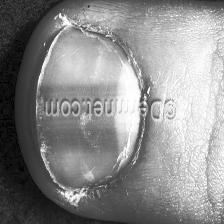Toxin: (55, 180, 101, 209), (32, 116, 53, 164), (120, 123, 140, 157)
